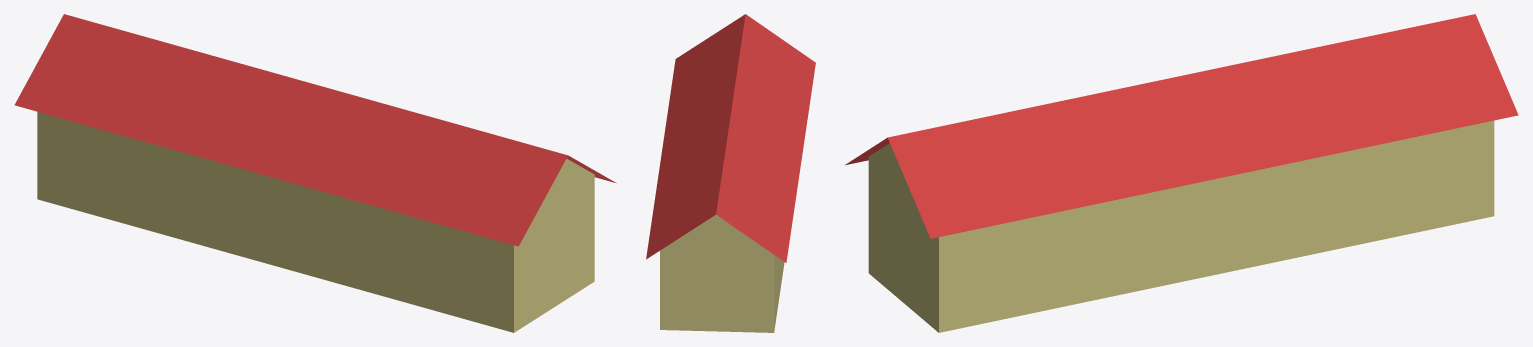
The picture shows the model from 3 angles, left to right: view 1: azimuth 30°, elevation 25°; view 2: azimuth 150°, elevation 25°; view 3: azimuth 270°, elevation 25°; orthographic projection. The views are drawn at different scales.
Bounding box in the file's own units: 25.79 × 37.31 × 10.32.
